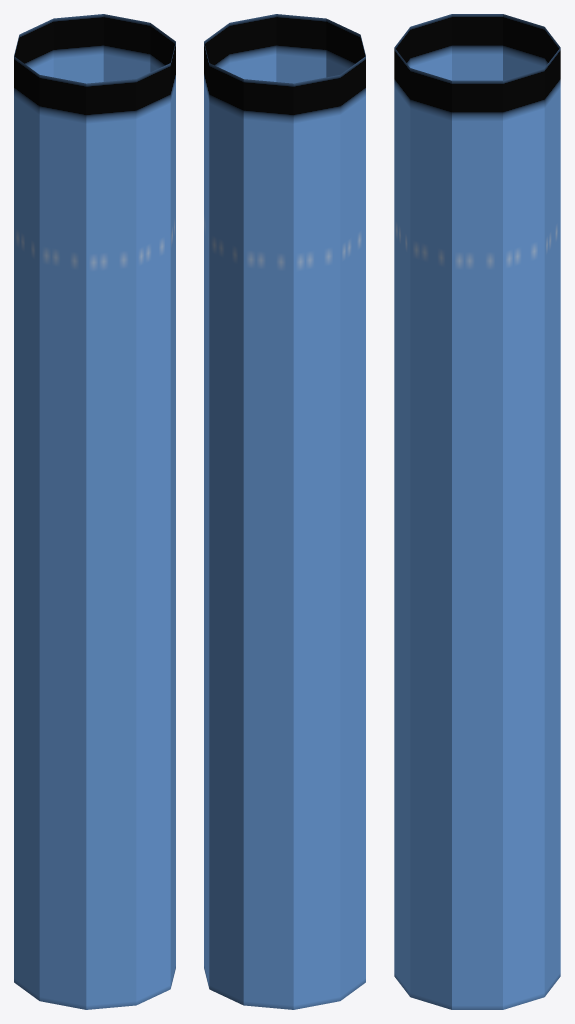
File: beacon.fbx
The picture shows the model from 3 angles, left to right: view 1: azimuth 30°, elevation 25°; view 2: azimuth 150°, elevation 25°; view 3: azimuth 270°, elevation 25°; orthographic projection.
Parts seen in each view (by area): view 1: Cylinder; view 2: Cylinder; view 3: Cylinder.
Boxes of the visible parts, x1,y1,x2,y2 form: Cylinder: [14, 14, 175, 1009]; Cylinder: [204, 14, 365, 1009]; Cylinder: [394, 14, 560, 1009].
Size of the model in its own units: 308 by 2000 by 324.
Materials: 1 (1 with a texture image).
